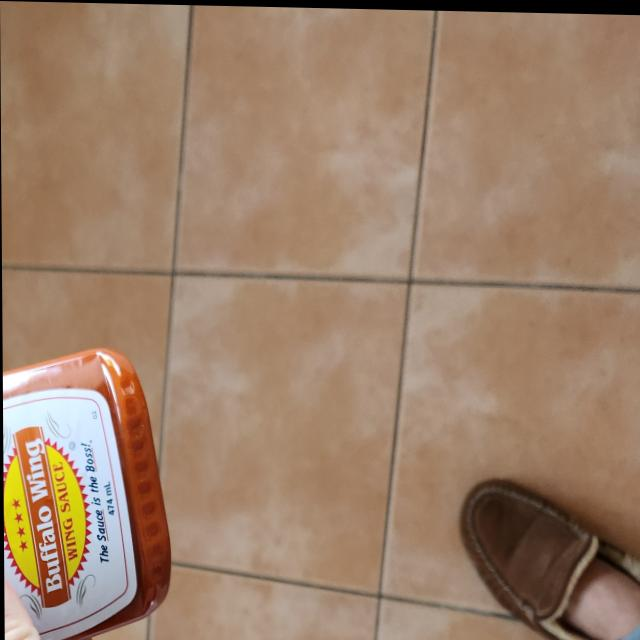buffalo sauce: (2, 343, 171, 640)
